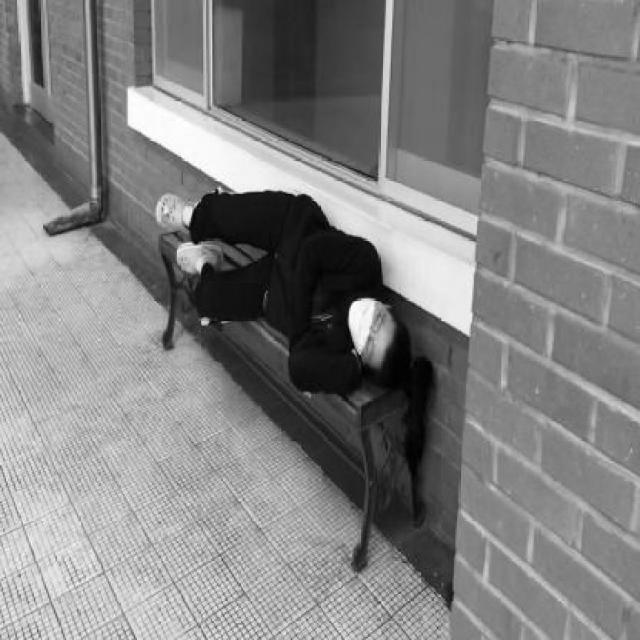person: (153, 183, 413, 402)
